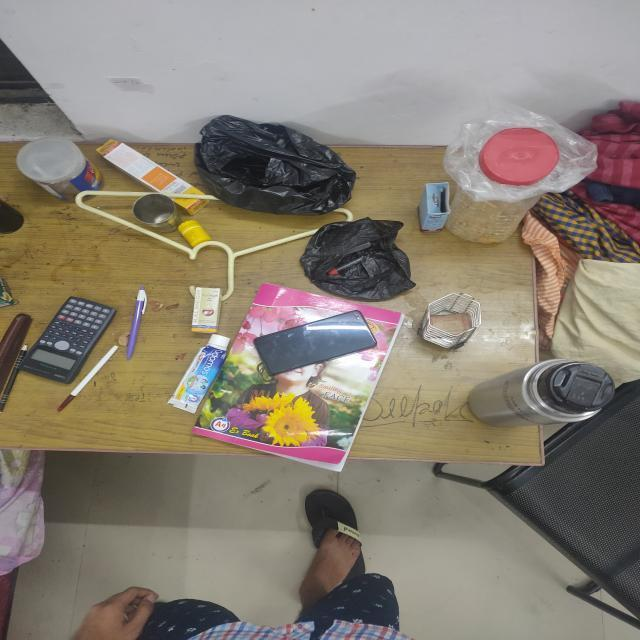Phone: (251, 308, 380, 376)
